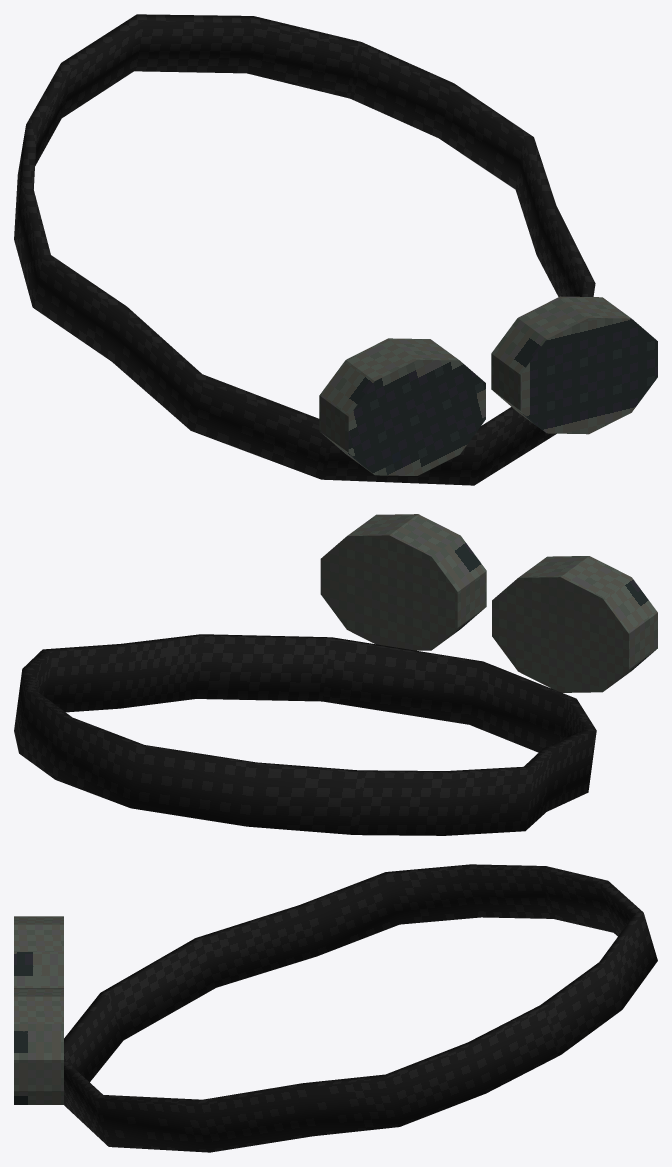
Rendered from goggles.glb.
The picture shows the model from 3 angles, top to bottom: view 1: azimuth 30°, elevation 25°; view 2: azimuth 150°, elevation 25°; view 3: azimuth 270°, elevation 25°; orthographic projection. The views are drawn at different scales.
Visible parts, largest first — view 1: goggles_ground; view 2: goggles_ground; view 3: goggles_ground.
Part boxes in pixels (x1=…): goggles_ground: x1=14, y1=14, x2=657, y2=485; goggles_ground: x1=14, y1=514, x2=657, y2=835; goggles_ground: x1=14, y1=864, x2=657, y2=1152.
Size of the model in its own units: 0.1951 by 0.0848 by 0.2569.
Materials: 1 (1 with a texture image).
